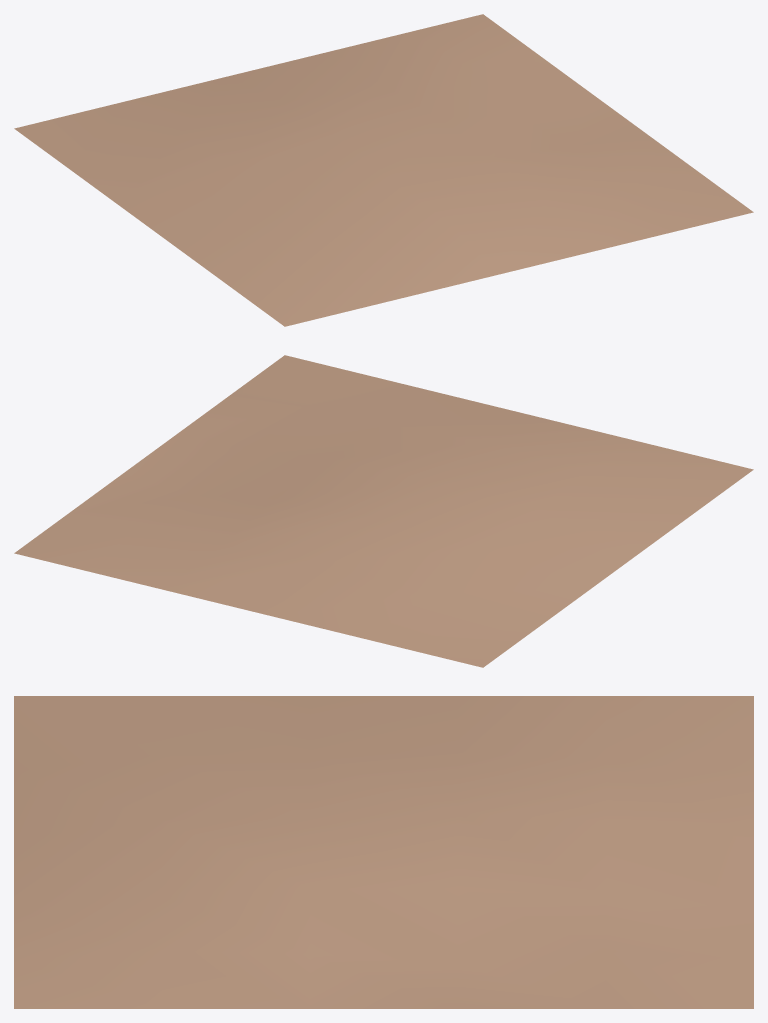
File: Ground_1.FBX
3 renders of one model, top to bottom at view 1: azimuth 30°, elevation 25°; view 2: azimuth 150°, elevation 25°; view 3: azimuth 270°, elevation 25°, orthographic. The views are drawn at different scales.
Visible parts, largest first — view 1: Plane001; view 2: Plane001; view 3: Plane001.
Part boxes in pixels (x1=…): Plane001: x1=14, y1=14, x2=753, y2=326; Plane001: x1=14, y1=355, x2=753, y2=667; Plane001: x1=14, y1=696, x2=753, y2=1008.
Size of the model in its own units: 101 by 4.59 by 101.
